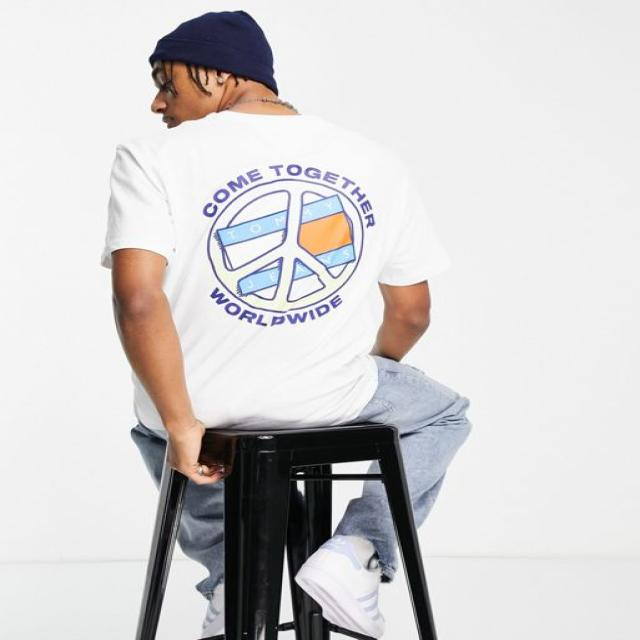tshirt: (99, 110, 449, 434)
